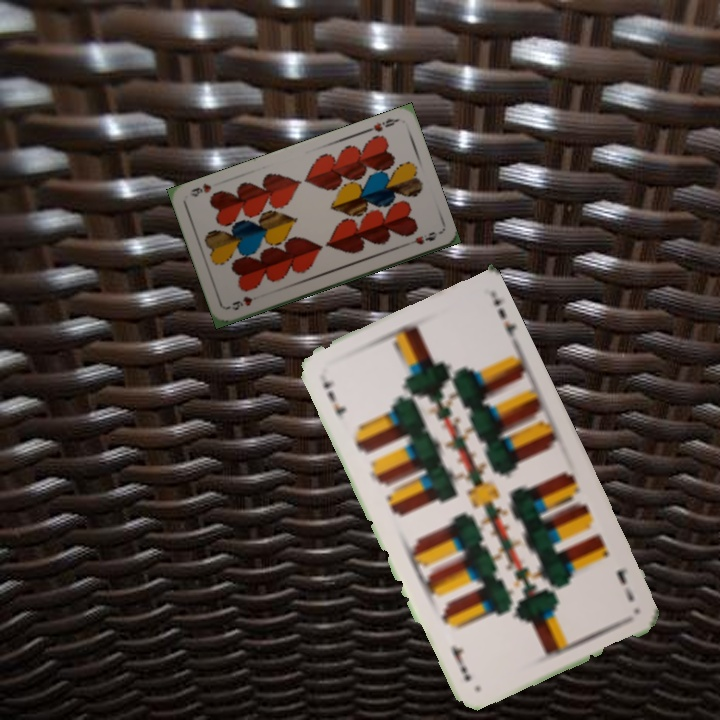E7: (319, 376, 349, 423), (612, 564, 637, 604)
H9: (361, 114, 401, 135), (224, 292, 255, 313)
